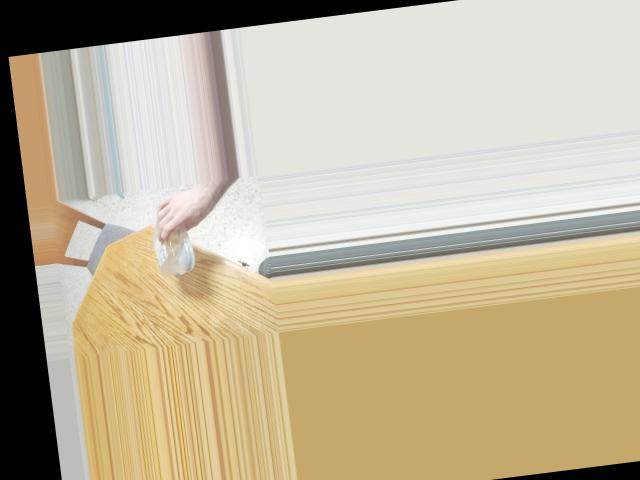cheese: (145, 205, 201, 269)
